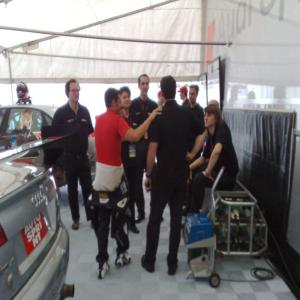Vehicle-registration-plate: (22, 214, 49, 259)
